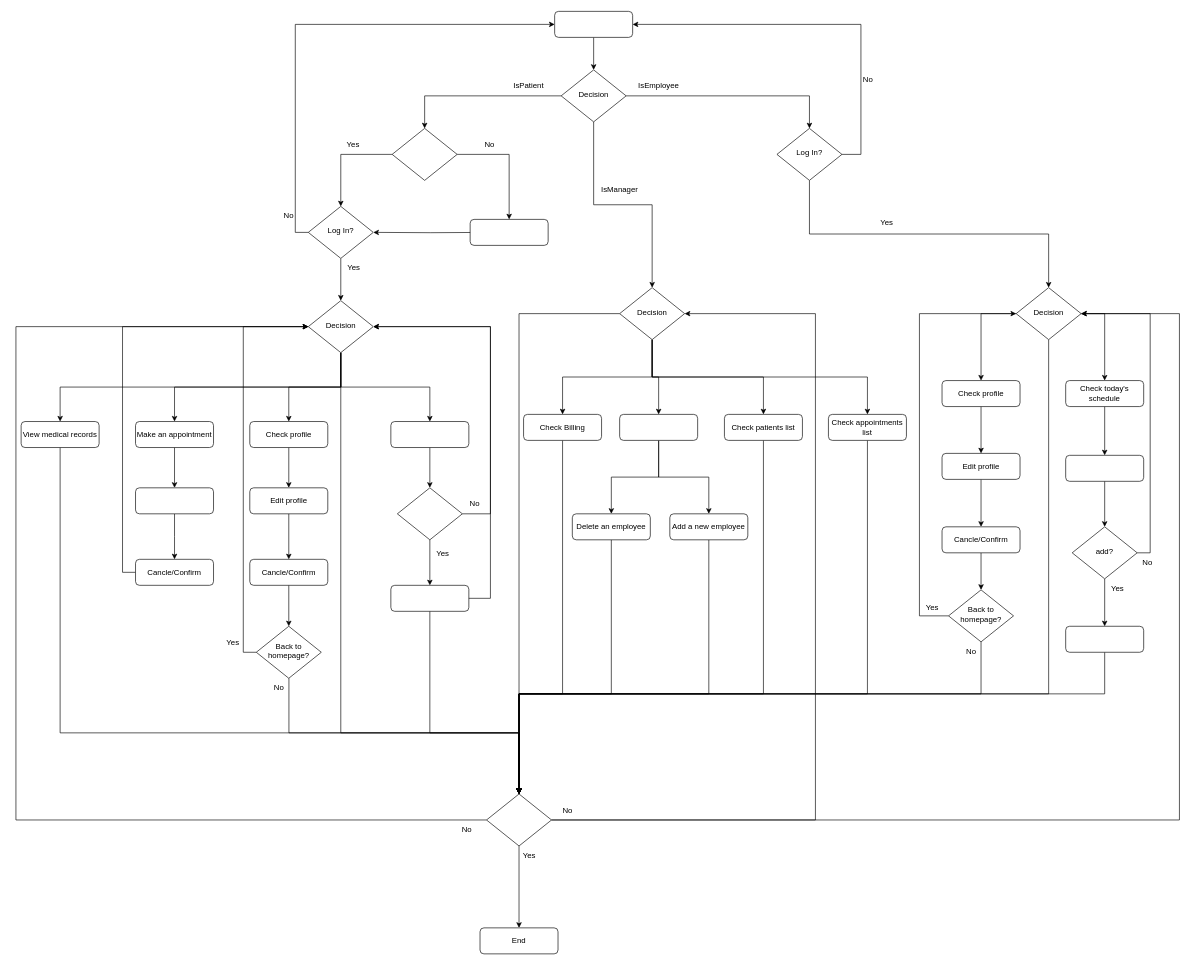
Some shapes in this 1196 by 965 pixel diagram are drawn without their labels. Here are the shapes that lost their labels. From the top down, the centre of each, then its label:
(x=593, y=24): Start
(x=424, y=154): Registered?
(x=508, y=232): Create Account
(x=429, y=434): View scheduled appointments
(x=658, y=427): Check employees list
(x=1104, y=468): Check medical records by patient name
(x=174, y=500): Select a slot
(x=429, y=513): Cancle?
(x=429, y=598): Cancle the upcoming appointment
(x=1104, y=639): Update medical records
(x=519, y=819): Logout?
